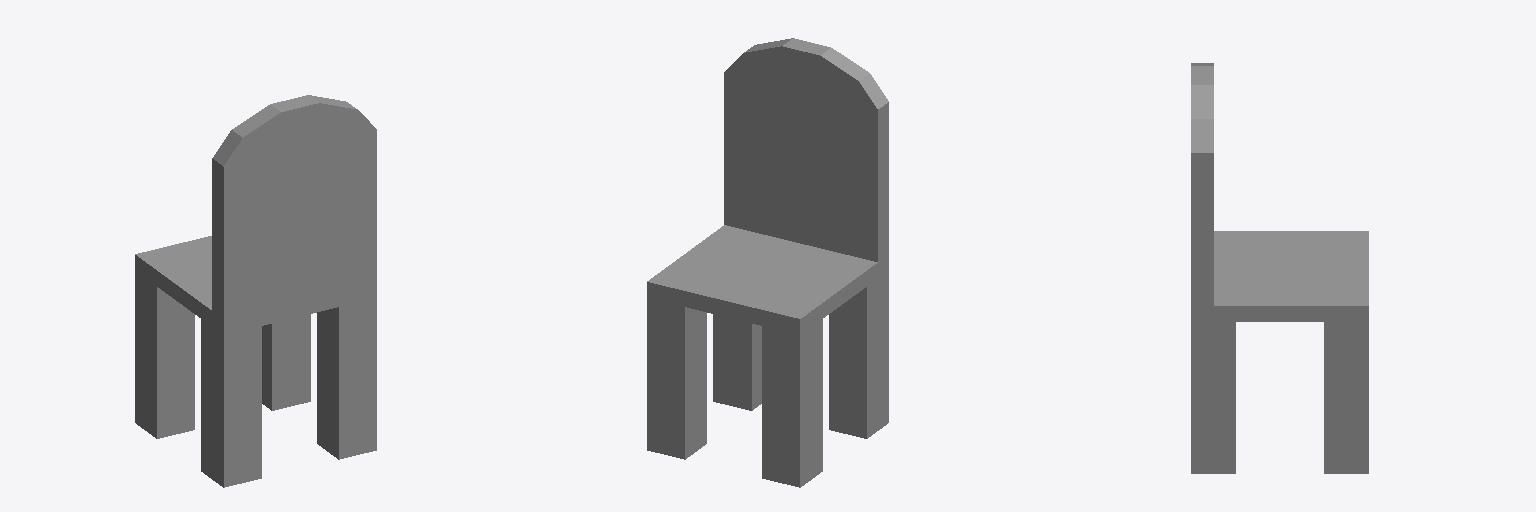
File: Chair.obj
The picture shows the model from 3 angles: view 1: azimuth 30°, elevation 25°; view 2: azimuth 150°, elevation 25°; view 3: azimuth 270°, elevation 25°; orthographic projection.
Visible parts, largest first — view 1: Cube; view 2: Cube; view 3: Cube.
Part boxes in pixels (x1,y1,x2,y2): Cube: (135, 95, 376, 487); Cube: (647, 38, 888, 487); Cube: (1191, 63, 1368, 473).
Size of the model in its own units: 2 by 4.5 by 2.